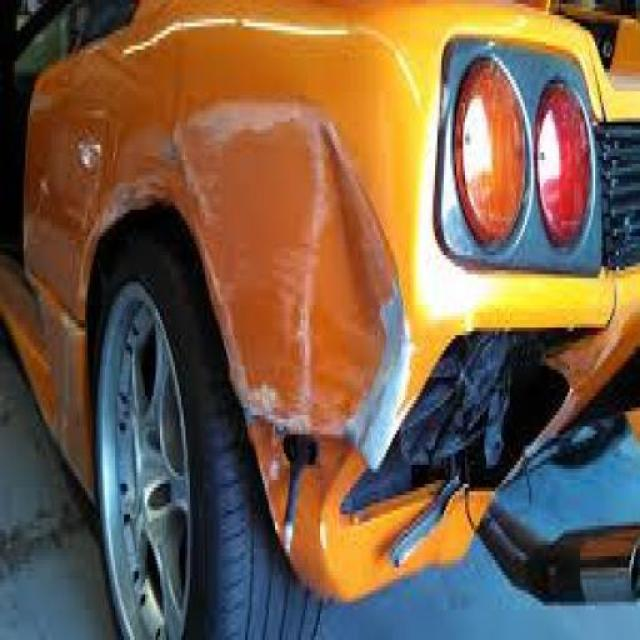dent: (297, 146, 394, 341)
missing: (337, 323, 599, 515)
scratch: (174, 96, 419, 468), (102, 175, 170, 231)
